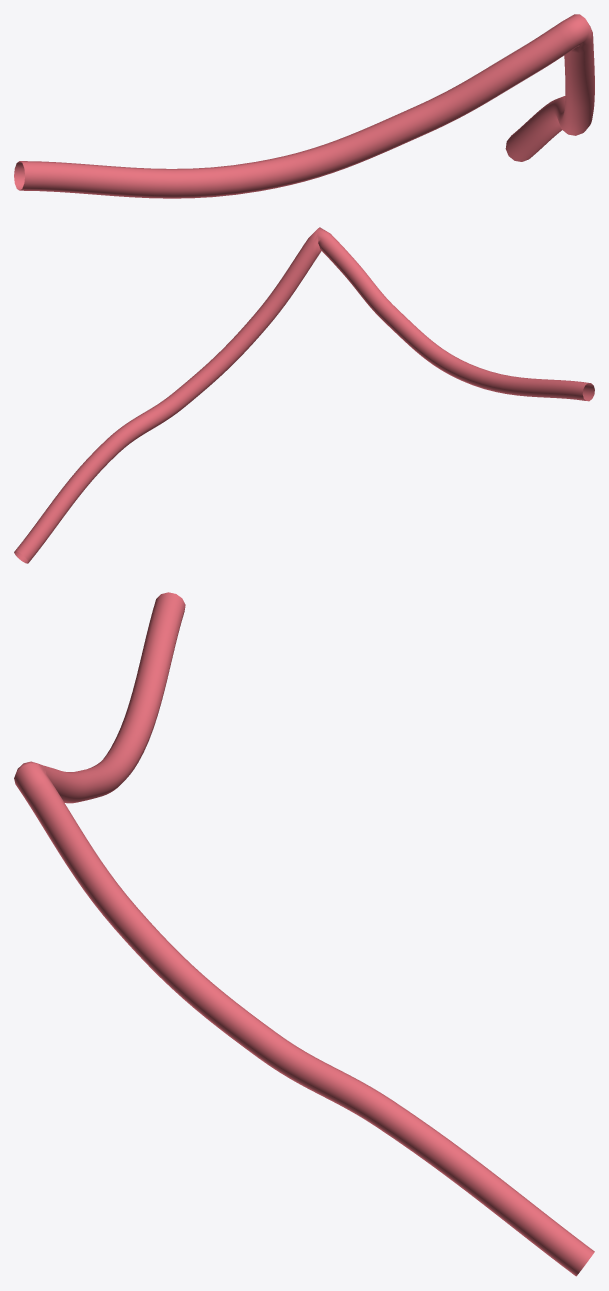
3 renders of one model, top to bottom at view 1: azimuth 30°, elevation 25°; view 2: azimuth 150°, elevation 25°; view 3: azimuth 270°, elevation 25°, orthographic. The views are drawn at different scales.
Parts seen in each view (by area): view 1: ZA_63aaee85c5ff21d1; view 2: ZA_63aaee85c5ff21d1; view 3: ZA_63aaee85c5ff21d1.
Boxes of the visible parts, <box> form: ZA_63aaee85c5ff21d1: <box>14,14,594,198</box>; ZA_63aaee85c5ff21d1: <box>14,227,594,563</box>; ZA_63aaee85c5ff21d1: <box>14,592,594,1276</box>.
Size of the model in its own units: 0.0443 by 0.023 by 0.0298.
